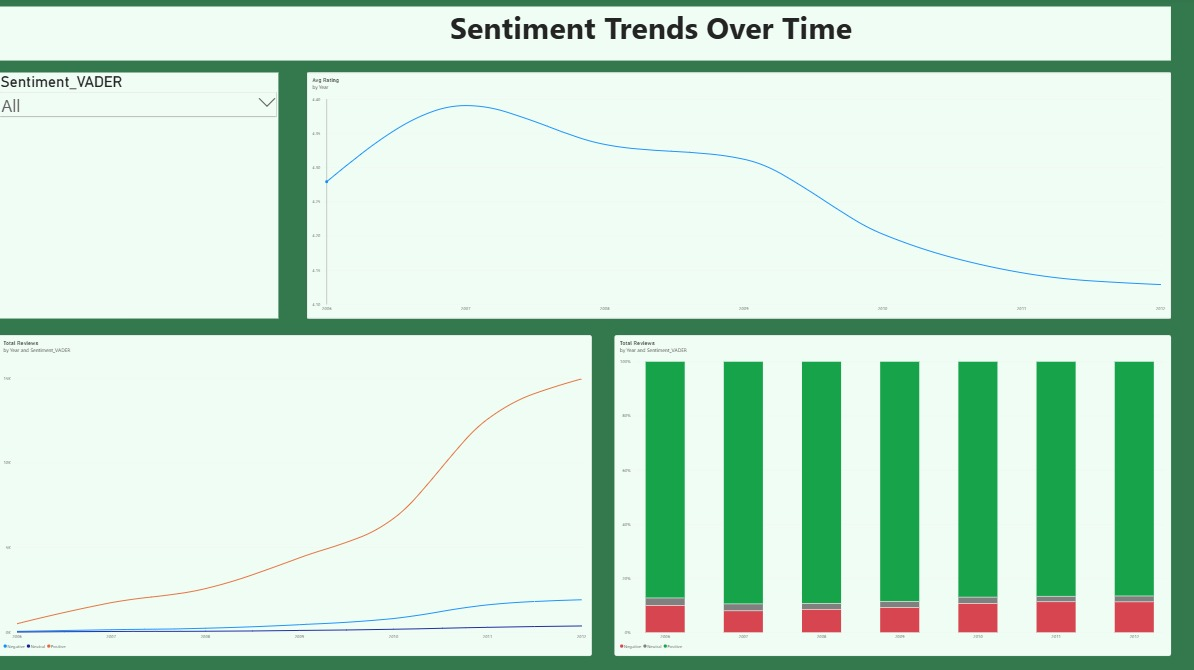

This screenshot's page, from the dashboard's own definition file:
{"tool":"powerbi","page":{"name":"Trends","canvas":[3840,2160],"ordinal":1},"visuals":[{"type":"textbox","box":[28.6,33.4,3731.6,171.8],"z":0},{"type":"lineChart","fields":{"Category":["Reviews.Year"],"Series":["Reviews.Sentiment_VADER"],"Y":["Reviews.Total Reviews"]},"box":[28.6,1078.4,1889.6,1021.2],"z":1},{"type":"hundredPercentStackedColumnChart","fields":{"Category":["Reviews.Year"],"Series":["Reviews.Sentiment_VADER"],"Y":["Reviews.Total Reviews"]},"box":[1989.9,1078.4,1770.4,1021.2],"z":2},{"type":"lineChart","fields":{"Category":["Reviews.Year"],"Y":["Reviews.Avg Rating"]},"box":[1011.6,243.4,2748.6,782.6],"z":3},{"type":"slicer","fields":{"Values":["Reviews.Sentiment_VADER"]},"box":[28.6,243.4,892.3,782.6],"z":4}]}

Visuals, with their boxes in screenshot pixels (x1, y1, x2, y2), scaled from the page's 3840x2160 canvas onto the 1194x670 screenshot:
textbox: l=9, t=10, r=1169, b=64
lineChart - Reviews.Year x Reviews.Sentiment_VADER: l=9, t=335, r=596, b=651
hundredPercentStackedColumnChart - Reviews.Year x Reviews.Sentiment_VADER: l=619, t=335, r=1169, b=651
lineChart - Reviews.Year x Reviews.Avg Rating: l=315, t=75, r=1169, b=318
slicer - Reviews.Sentiment_VADER: l=9, t=75, r=286, b=318
